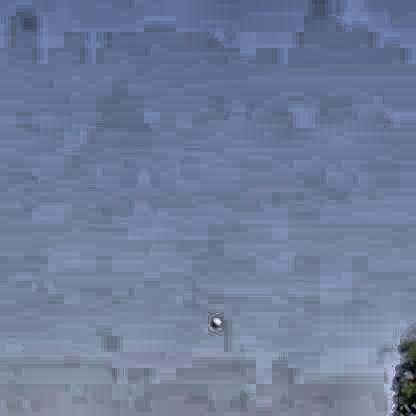golfball: (207, 314, 219, 325)
